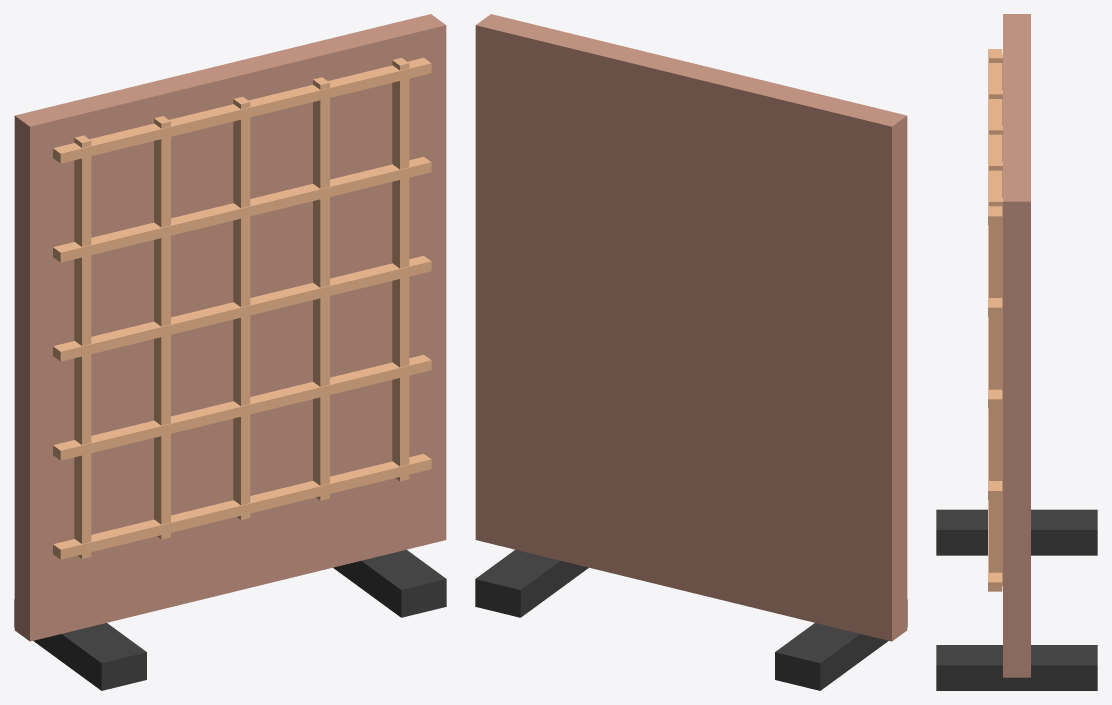
3 views of the same model, side by side, from view 1: azimuth 30°, elevation 25°; view 2: azimuth 150°, elevation 25°; view 3: azimuth 270°, elevation 25° (orthographic). The views are drawn at different scales.
Parts seen in each view (by area): view 1: Panel, Lattice upright.004, Lattice upright.002, Lattice upright, Lattice crossbar.004, Lattice crossbar.002, Lattice crossbar.001, Lattice crossbar.003, Lattice crossbar, Lattice upright.003, Lattice upright.001, Panel foot (+1 smaller); view 2: Panel, Panel foot, Panel foot.001; view 3: Panel, Panel foot.001, Panel foot, Lattice upright.004, Lattice crossbar.004, Lattice crossbar, Lattice crossbar.002, Lattice crossbar.001, Lattice crossbar.003.
Boxes of the visible parts, <box> form: Panel: <box>14,14,446,641</box>; Lattice upright.004: <box>392,58,409,481</box>; Lattice upright.002: <box>233,96,250,519</box>; Lattice upright: <box>74,135,91,558</box>; Lattice crossbar.004: <box>53,57,431,163</box>; Lattice crossbar.002: <box>53,255,431,361</box>; Lattice crossbar.001: <box>53,354,431,460</box>; Lattice crossbar.003: <box>53,156,431,262</box>; Lattice crossbar: <box>53,454,431,559</box>; Lattice upright.003: <box>313,77,329,500</box>; Lattice upright.001: <box>154,116,170,539</box>; Panel foot: <box>14,599,146,690</box>; Panel: <box>475,14,907,641</box>; Panel foot: <box>775,599,907,690</box>; Panel foot.001: <box>475,549,588,617</box>; Panel: <box>1003,14,1030,677</box>; Panel foot.001: <box>936,645,1097,690</box>; Panel foot: <box>936,509,1097,555</box>; Lattice upright.004: <box>989,197,1002,586</box>; Lattice crossbar.004: <box>988,49,1002,225</box>; Lattice crossbar: <box>988,500,1002,591</box>; Lattice crossbar.002: <box>988,317,1002,408</box>; Lattice crossbar.001: <box>988,408,1002,499</box>; Lattice crossbar.003: <box>988,225,1002,316</box>.
Bounding box in the file's own units: 1.1 × 1.38 × 0.4.
1 material, 1 textured.
